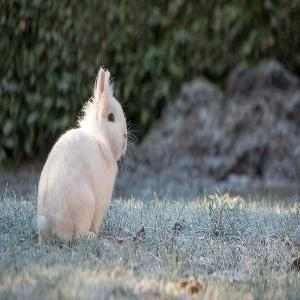rabbit: (36, 68, 129, 244)
